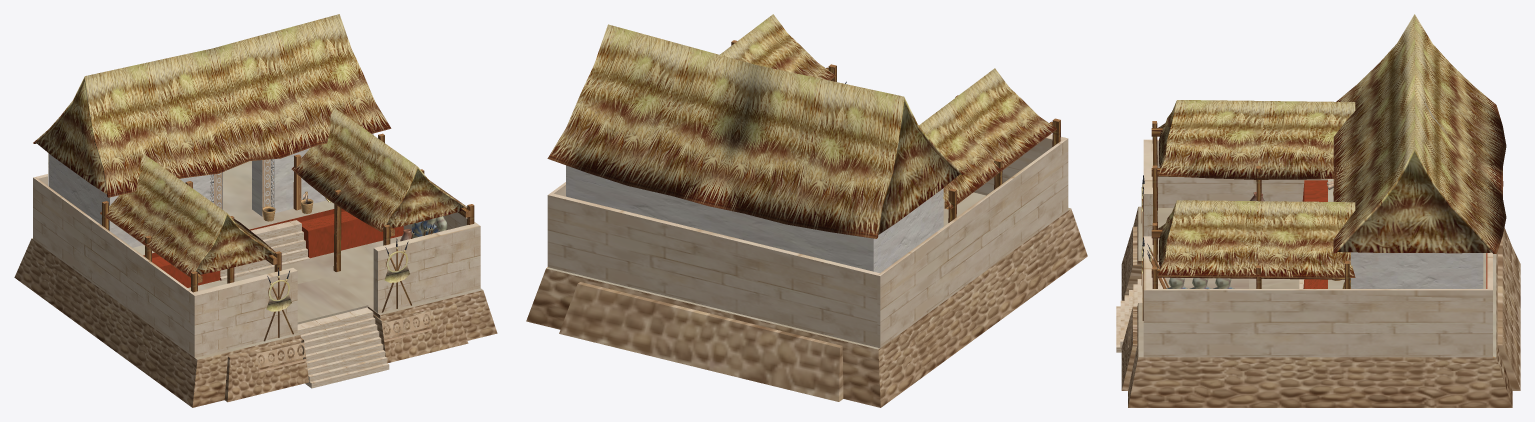
The model's file is elmirador_barracks.dae.
3 renders of one model, left to right at view 1: azimuth 30°, elevation 25°; view 2: azimuth 150°, elevation 25°; view 3: azimuth 270°, elevation 25°, orthographic. The views are drawn at different scales.
Visible parts, largest first — view 1: Cubo_000_001_002_001_001_001_001_003_001_001_005_008_000_002; view 2: Cubo_000_001_002_001_001_001_001_003_001_001_005_008_000_002; view 3: Cubo_000_001_002_001_001_001_001_003_001_001_005_008_000_002.
Boxes of the visible parts, x1,y1,x2,y2 form: Cubo_000_001_002_001_001_001_001_003_001_001_005_008_000_002: [14, 14, 497, 407]; Cubo_000_001_002_001_001_001_001_003_001_001_005_008_000_002: [526, 14, 1087, 407]; Cubo_000_001_002_001_001_001_001_003_001_001_005_008_000_002: [1116, 14, 1520, 407].
Bounding box in the file's own units: 20.97 × 22.32 × 15.38.
